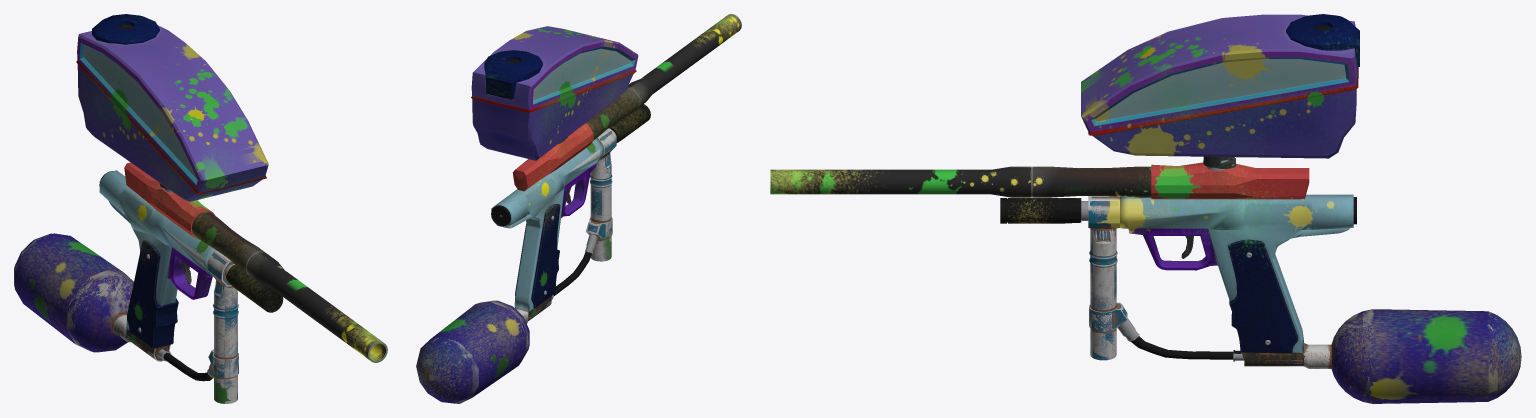
File: paintball_gun.glb
The picture shows the model from 3 angles, left to right: view 1: azimuth 30°, elevation 25°; view 2: azimuth 150°, elevation 25°; view 3: azimuth 270°, elevation 25°; orthographic projection. The views are drawn at different scales.
Visible parts, largest first — view 1: Pellet_Box, pSphere1, Muzzle, Gun, polySurface22, Grip, polySurface20, pCylinder14, polySurface18, pCylinder15, sweep2; view 2: Pellet_Box, pSphere1, Gun, Muzzle, polySurface22, pCylinder14, Grip, polySurface20, polySurface18, sweep2, pCylinder2, pCylinder15; view 3: Pellet_Box, pSphere1, Gun, Muzzle, Grip, polySurface20, polySurface22, pCylinder14, polySurface18, pCylinder15, sweep2.
Part boxes in pixels (x1,y1,x2,y2): Pellet_Box: (76,25,268,201); pSphere1: (14,233,133,352); Muzzle: (192,212,387,362); Gun: (99,170,215,329); polySurface22: (207,250,238,403); Grip: (127,240,178,348); polySurface20: (124,162,215,239); pCylinder14: (92,14,159,44); polySurface18: (226,264,283,312); pCylinder15: (112,314,170,361); sweep2: (157,349,213,381); Pellet_Box: (471,26,638,160); pSphere1: (416,300,529,403); Gun: (491,138,603,311); Muzzle: (586,14,741,140); polySurface22: (586,128,616,261); pCylinder14: (484,50,542,99); Grip: (515,204,560,308); polySurface20: (512,123,593,191); polySurface18: (609,104,650,142); sweep2: (552,233,597,299); pCylinder2: (491,205,511,226); pCylinder15: (515,295,552,323); Pellet_Box: (1081,14,1358,158); pSphere1: (1331,309,1521,403); Gun: (1120,194,1353,352); Muzzle: (770,166,1151,197); Grip: (1228,239,1298,353); polySurface20: (1151,162,1309,199); polySurface22: (1088,196,1127,360); pCylinder14: (1286,14,1359,66); polySurface18: (1000,198,1081,223); pCylinder15: (1241,343,1331,368); sweep2: (1118,318,1243,361).
Bounding box in the file's own units: 0.1431 × 0.626 × 1.14.
Materials: 1 (1 with a texture image).
